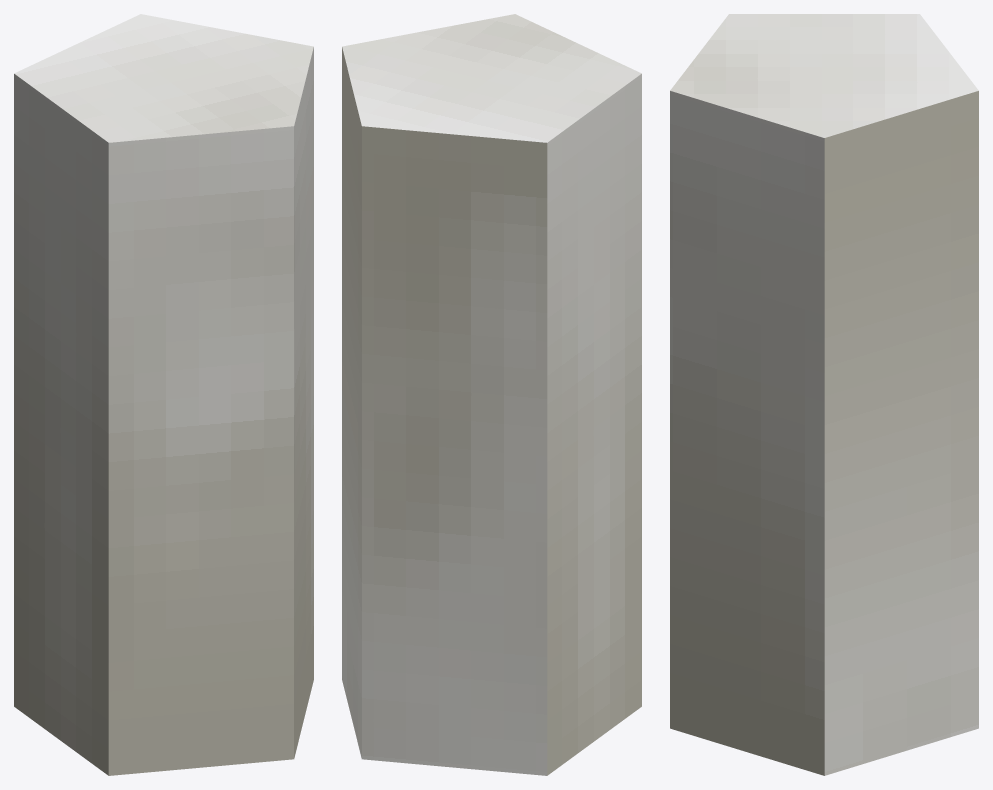
Rendered from Candle1.fbx.
3 renders of one model, left to right at view 1: azimuth 30°, elevation 25°; view 2: azimuth 150°, elevation 25°; view 3: azimuth 270°, elevation 25°, orthographic.
Parts seen in each view (by area): view 1: candle1; view 2: candle1; view 3: candle1.
Part boxes in pixels (x1=…): candle1: x1=14, y1=14, x2=313, y2=775; candle1: x1=342, y1=14, x2=641, y2=775; candle1: x1=670, y1=14, x2=978, y2=775.
Bounding box in the file's own units: 0.00181 × 0.00433 × 0.0019.
Materials: 1 (1 with a texture image).
